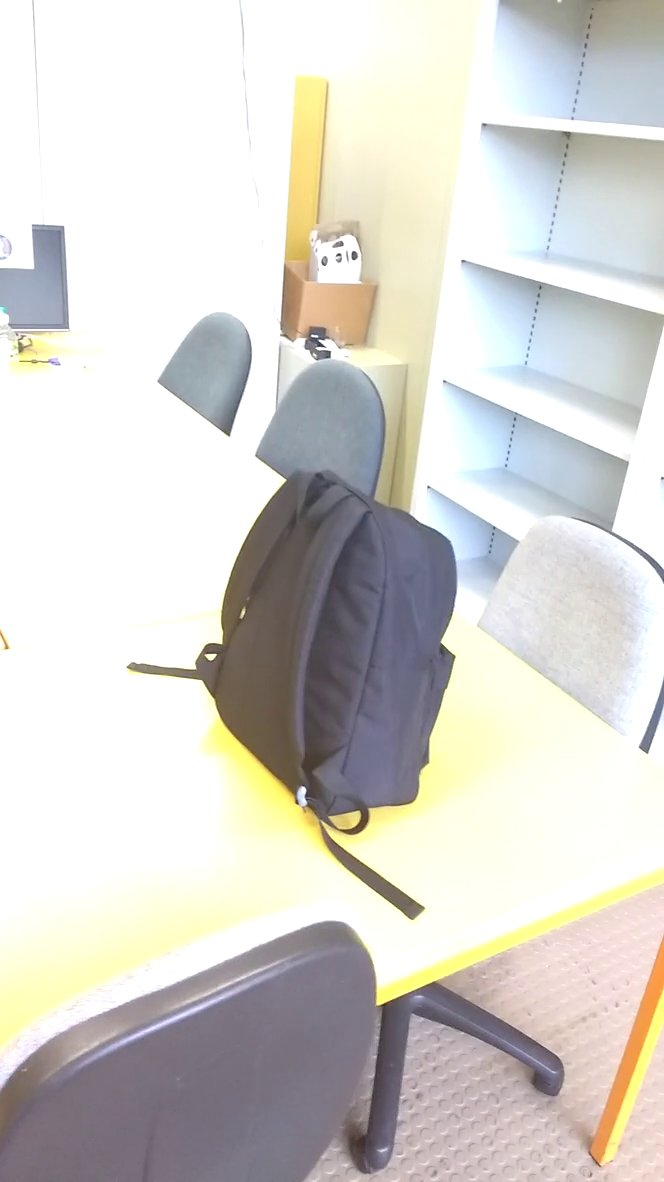bag: (187, 462, 466, 844)
chair: (5, 874, 408, 1182), (470, 501, 664, 787), (251, 352, 393, 535), (147, 309, 257, 444)
